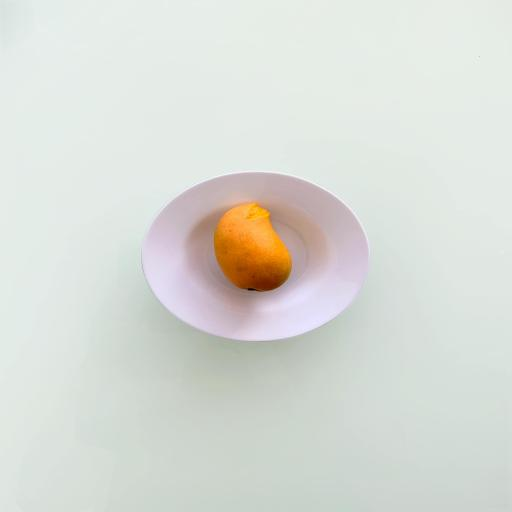Mango-Detection: (127, 156, 389, 358)
